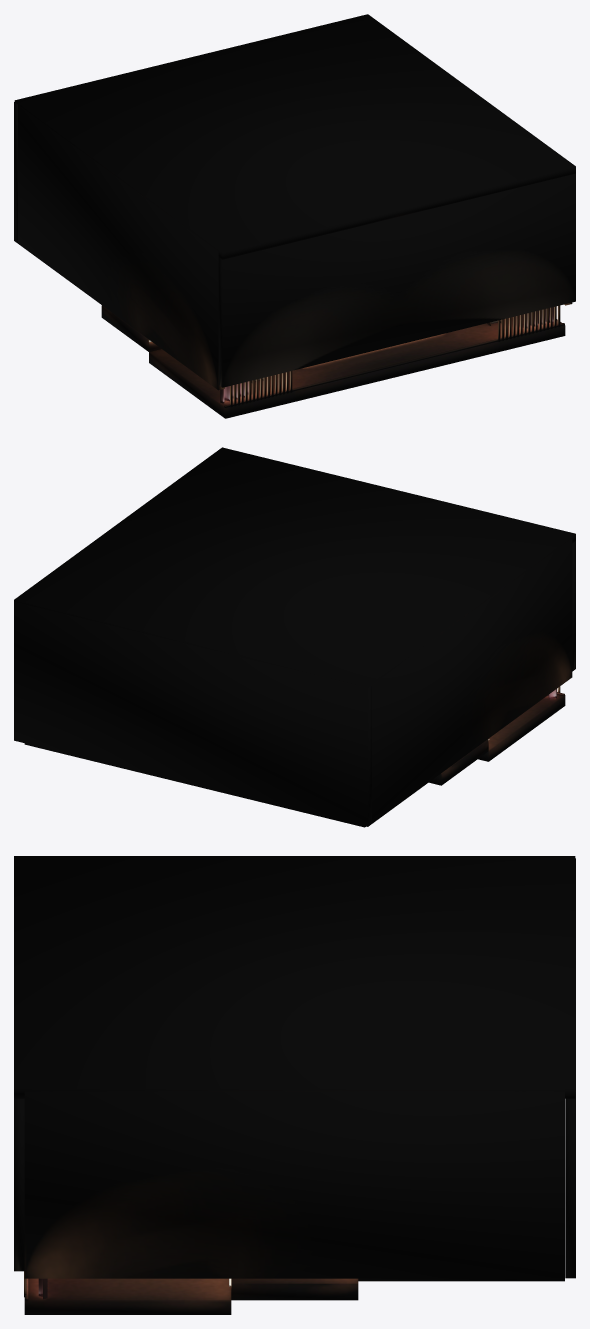
File: hall_lounge.glb
The picture shows the model from 3 angles, top to bottom: view 1: azimuth 30°, elevation 25°; view 2: azimuth 150°, elevation 25°; view 3: azimuth 270°, elevation 25°; orthographic projection. The views are drawn at different scales.
Visible parts, largest first — view 1: lounge_shell, lounge_screenwall; view 2: lounge_shell; view 3: lounge_shell.
Part boxes in pixels (left/top/right/bottom): lounge_shell: left=14, top=14, right=575, bottom=418; lounge_screenwall: left=220, top=305, right=564, bottom=407; lounge_shell: left=14, top=447, right=575, bottom=827; lounge_shell: left=14, top=856, right=575, bottom=1314.
Bounding box in the file's own units: 10.42 × 4.8 × 10.61.
Materials: 3 (3 with a texture image).
